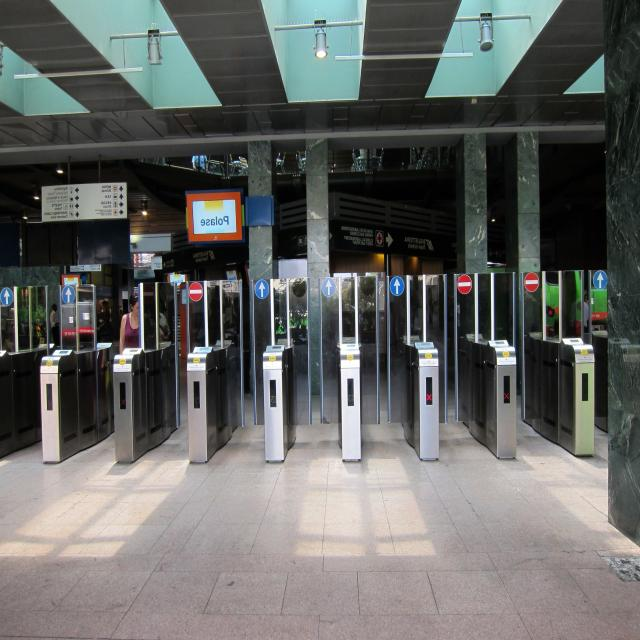torniquete: (188, 347, 232, 463), (40, 350, 79, 462), (404, 342, 440, 460), (559, 338, 595, 454), (114, 348, 149, 463), (262, 345, 296, 462), (485, 340, 516, 458), (336, 343, 361, 460)
